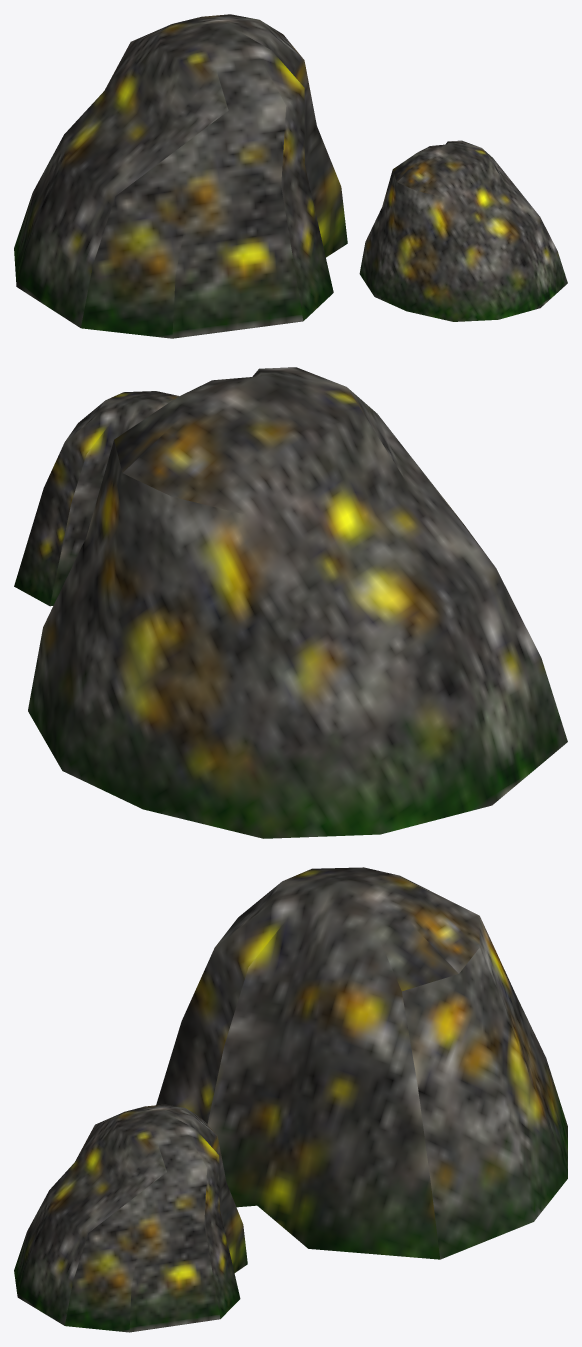
The model's file is gold.dae.
3 views of the same model, one above another, from view 1: azimuth 30°, elevation 25°; view 2: azimuth 150°, elevation 25°; view 3: azimuth 270°, elevation 25° (orthographic). The views are drawn at different scales.
Visible parts, largest first — view 1: Untitled; view 2: Untitled; view 3: Untitled.
Boxes of the visible parts, bbox=[...] form: Untitled: bbox=[14, 14, 567, 338]; Untitled: bbox=[14, 367, 567, 838]; Untitled: bbox=[14, 867, 567, 1332].
Bounding box in the file's own units: 1.89 × 1.67 × 0.9931.
Materials: 1 (1 with a texture image).
